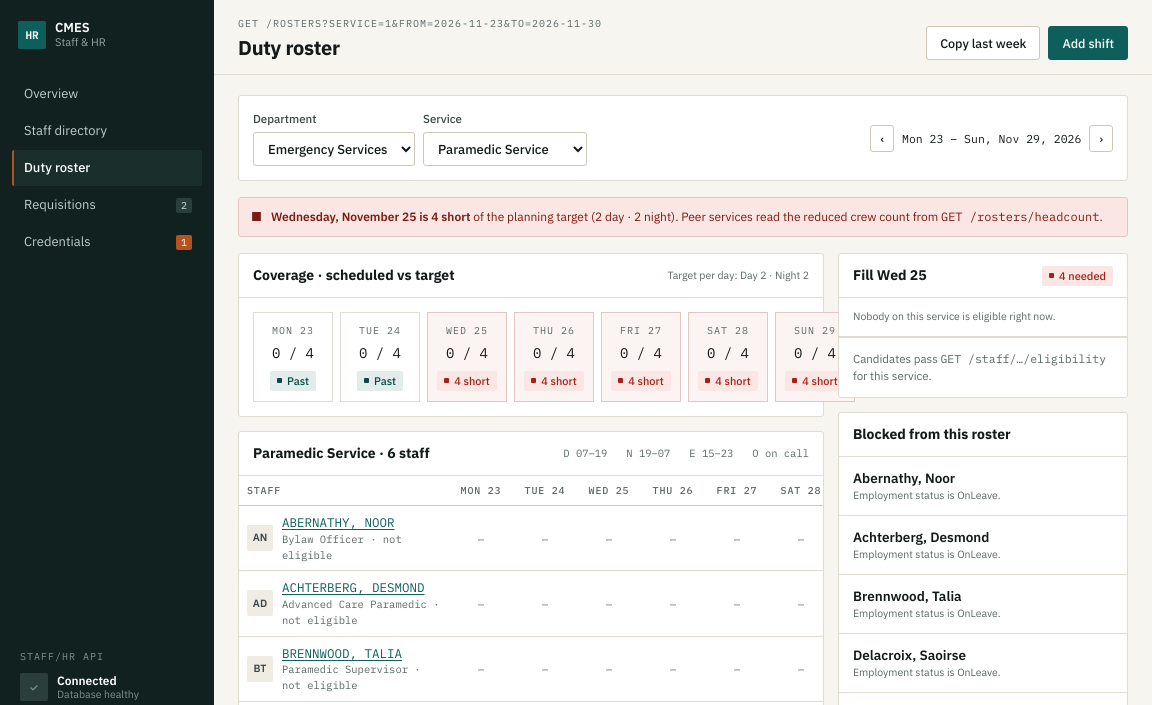
Test: CMES Staff & HR frontend › refuses to roster someone who is not eligible
Check: the button "BRENNWOOD, TALIA" is shown, box [282, 644, 402, 662]
Step 1. Click the button "Add shift" → (1088, 43), box [1048, 26, 1128, 60]
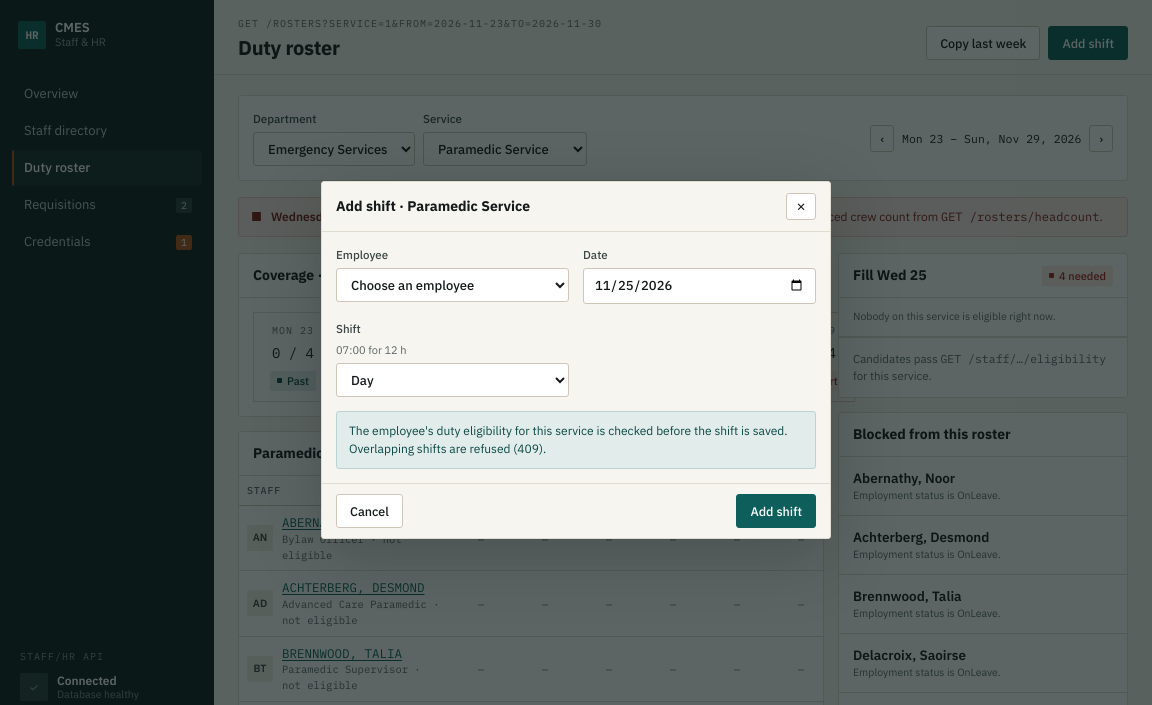
Step 2. Select "Brennwood, Talia · STF-0000001" in the dropdown labelled "Employee" → (452, 285), box [336, 268, 569, 302]
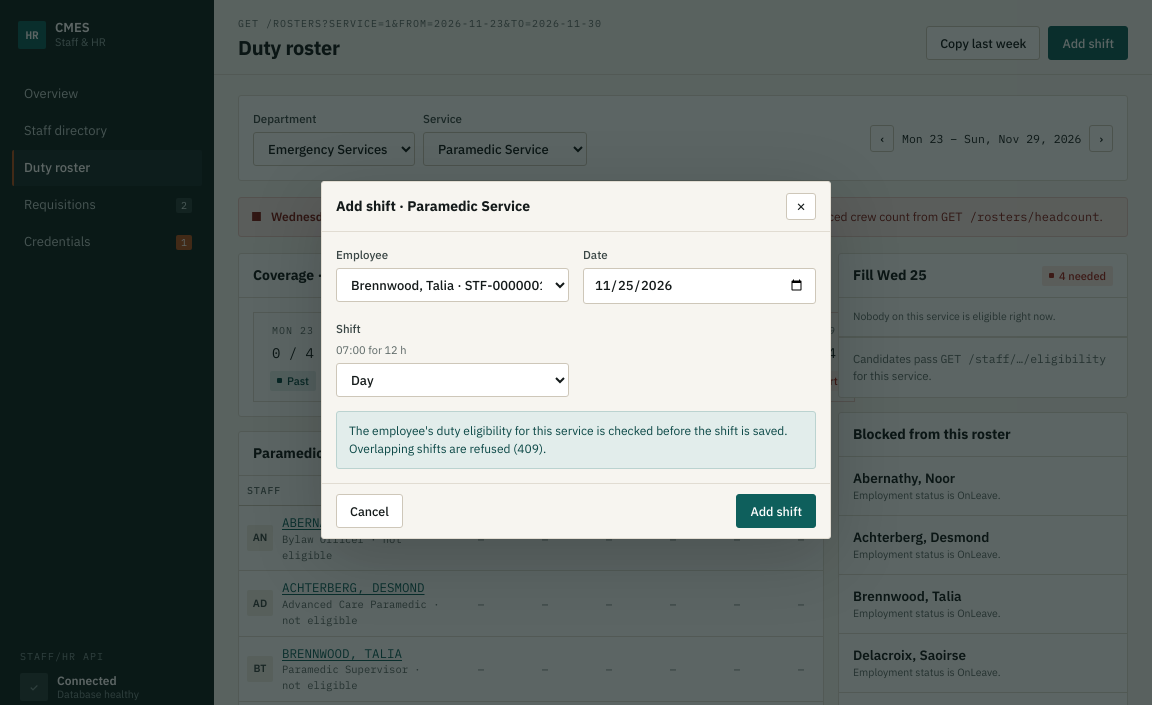
Step 3. Click the button "Add shift" → (776, 511), box [736, 494, 816, 528]
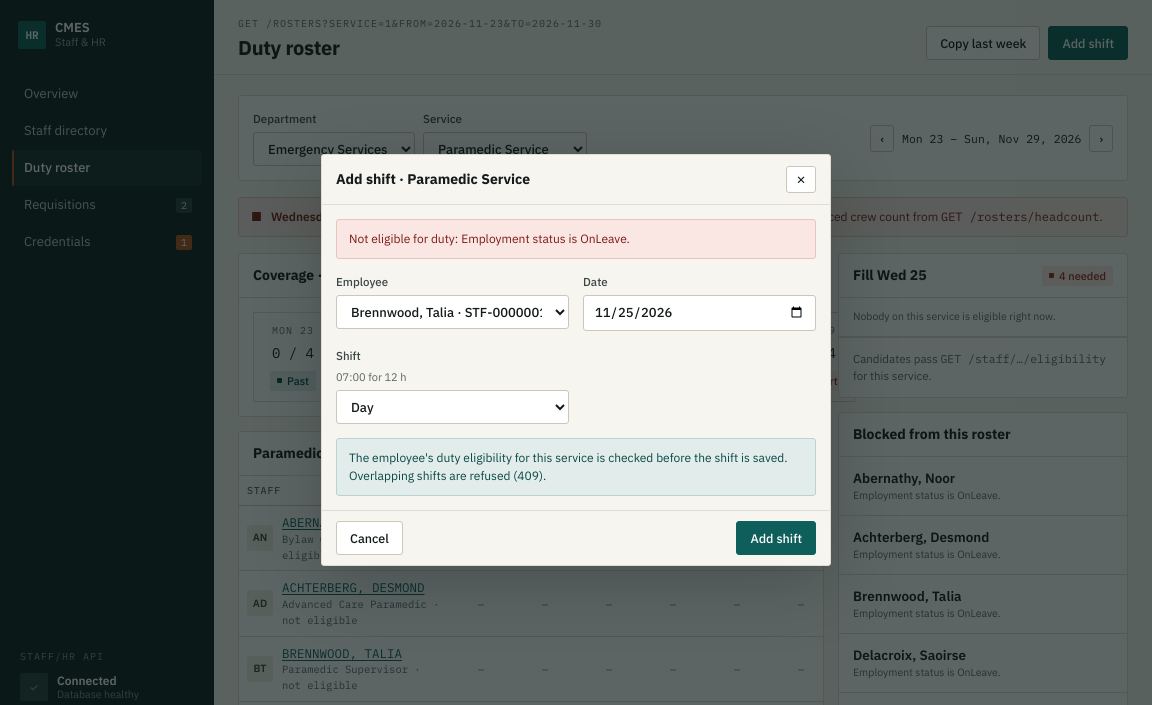
Check: the text "Not eligible for duty: Employment status is OnLeave." is shown, box [349, 230, 630, 248]
